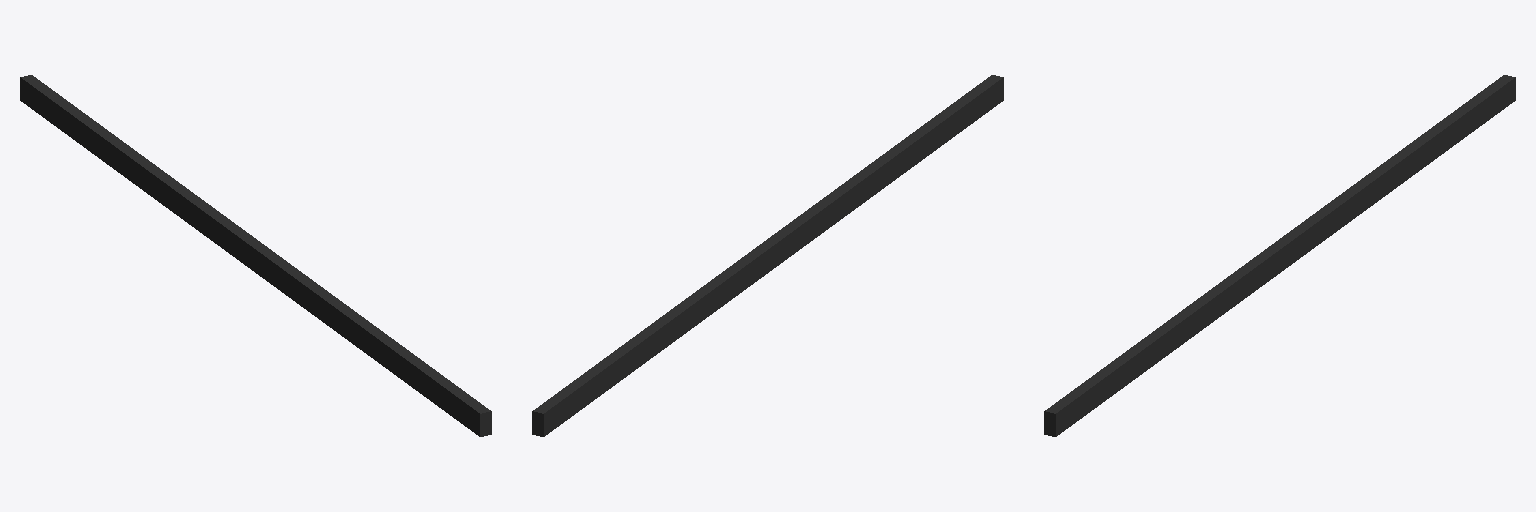
robot.urdf — wall:
<robot name="wall">
  <link name="baseLink">
   
    <inertial>
      <origin rpy="0 0 0" xyz="0 0 0" />
       <mass value="10" />
       <inertia ixx="0" ixy="0" ixz="0" iyy="0" iyz="0" izz="0" />
    </inertial>
    <visual>
      <origin rpy="0 0 0" xyz="0 0 0" />
      <geometry>
			  <box size="0.1 7.1 0.2" />
      </geometry>
       <material name="grey">
        <color rgba="0.24 0.24 0.24 1" />
      </material>
    </visual>
    <collision>
      <origin rpy="0 0 0" xyz="0 0 0" />
      <geometry>
	 	      <box size="0.1 7.1 0.2" />
      </geometry>
    </collision>
  </link>
</robot>

--- Facts derived from the render (not from the file) ---
3 views of the same robot in one strip: view 1: azimuth 30°, elevation 25°; view 2: azimuth 150°, elevation 25°; view 3: azimuth 330°, elevation 25° (orthographic).
Robot: wall — 1 links, 0 joints (none); root link baseLink; default pose: all joints at 0.
Visible links, largest first — view 1: baseLink; view 2: baseLink; view 3: baseLink.
Boxes of the visible links, x1=… form: baseLink: x1=20, y1=75, x2=491, y2=436; baseLink: x1=532, y1=75, x2=1003, y2=436; baseLink: x1=1044, y1=75, x2=1515, y2=436.
Bounding box of the posed robot: 0.1 × 7.1 × 0.2 m (x, y, z).
Geometry: primitives only (box / cylinder / sphere), no mesh files.
